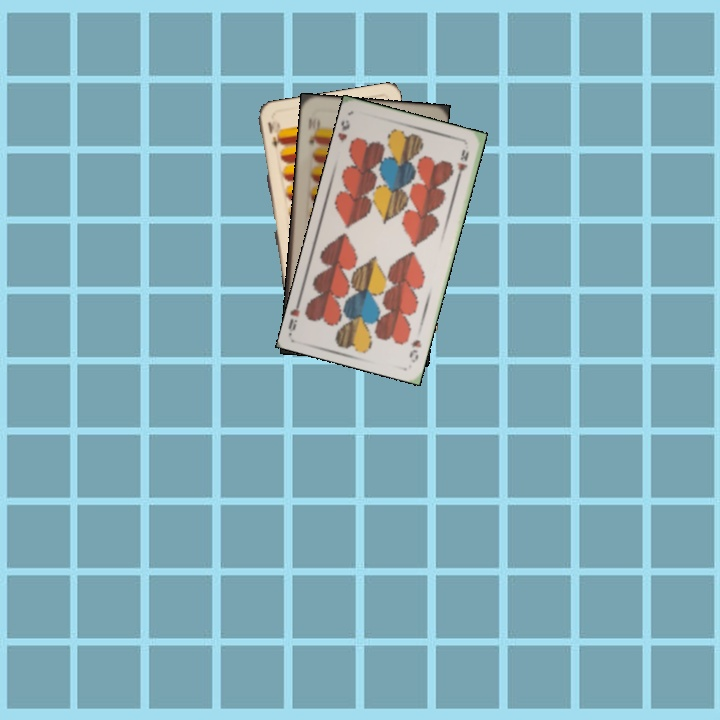E10: (264, 118, 281, 152), (305, 114, 320, 148)
H9: (405, 335, 424, 365), (335, 116, 352, 144)
